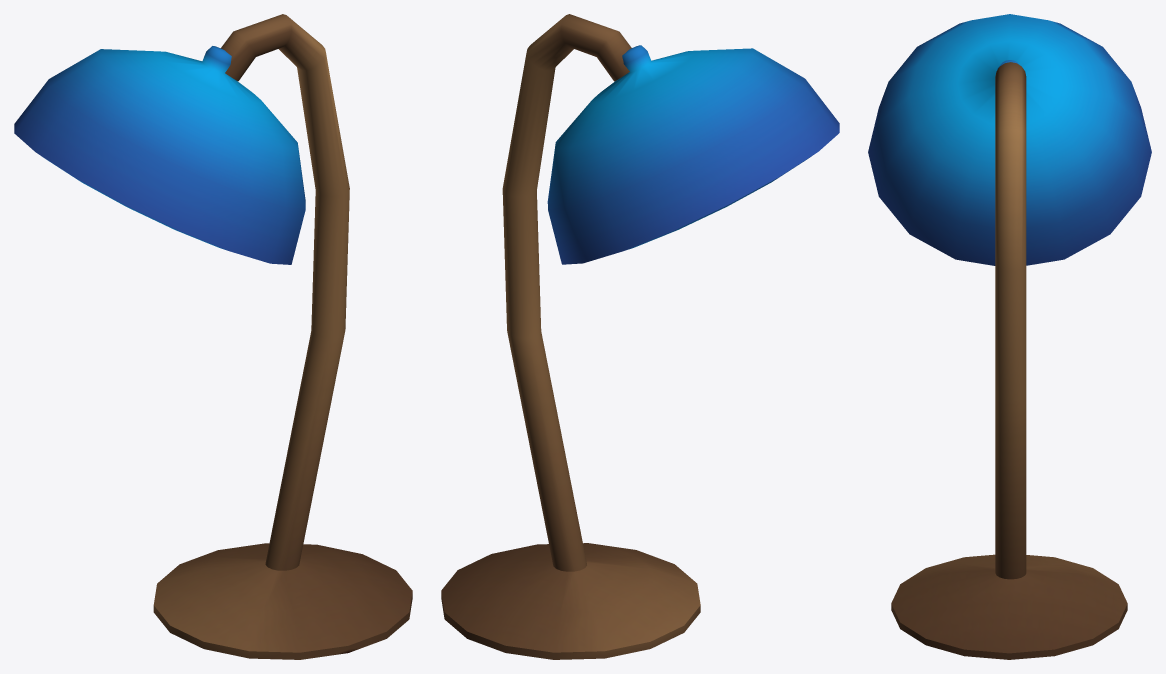
The model's file is desk lamp.FBX.
The picture shows the model from 3 angles, left to right: view 1: azimuth 30°, elevation 25°; view 2: azimuth 150°, elevation 25°; view 3: azimuth 270°, elevation 25°; orthographic projection. The views are drawn at different scales.
Visible parts, largest first — view 1: lamp 1; view 2: lamp 1; view 3: lamp 1.
Part boxes in pixels (x1,y1,x2,y2): lamp 1: [14, 14, 412, 659]; lamp 1: [441, 14, 839, 659]; lamp 1: [868, 14, 1151, 659].
Bounding box in the file's own units: 29.75 × 46.37 × 22.4.
1 material, 1 textured.
